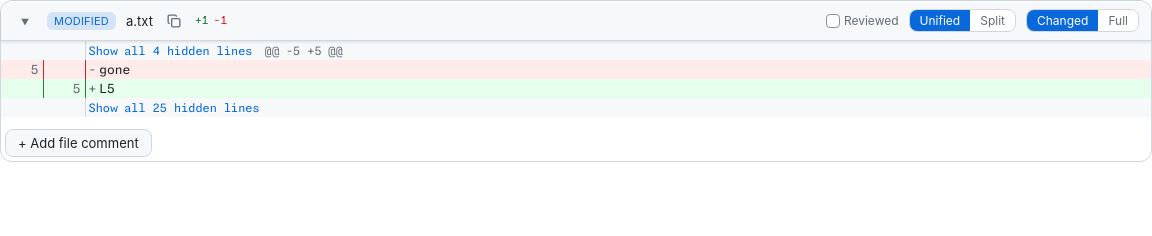
a fully revealed region drops its bar and the hunk header with it
The image size is (1152, 236).
Expected: the text "@@ -5 +5 @@" is shown, [264,44,343,57]
What coordinates should you click on to do the following:
click the button "Show all 4 hidden lines"
I would click on:
 (170, 50)
Its box is [88,41,252,60].
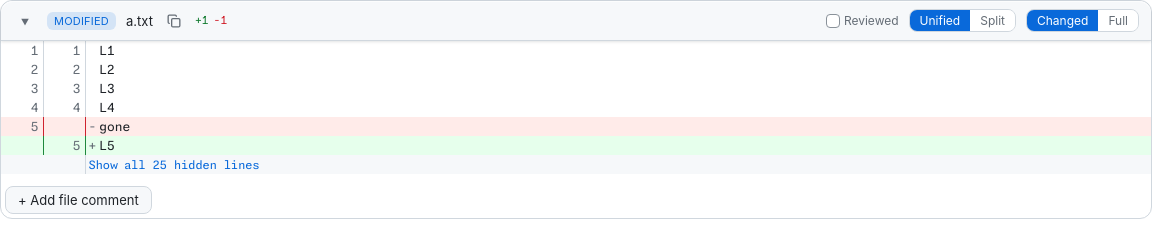
Now the text "L1" is shown, box [85,41,1151,60]
Now the text "@@ -5 +5 @@" is gone
